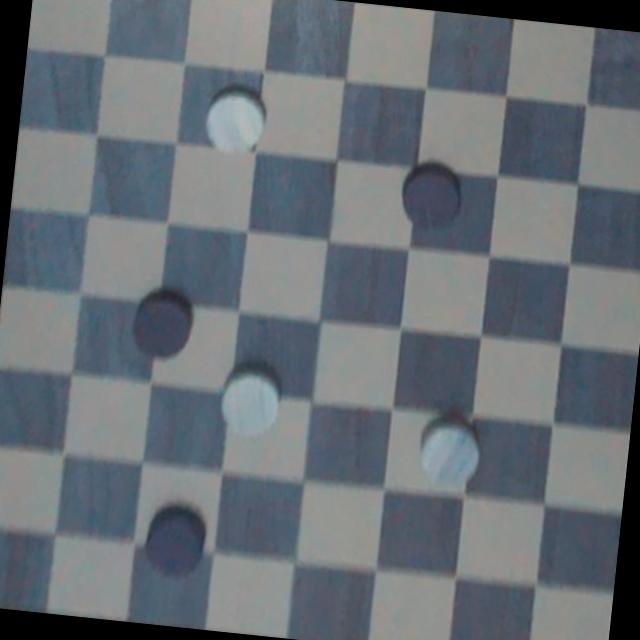BOARD: (0, 0, 640, 640)
black: (132, 492, 220, 587), (394, 153, 472, 235), (125, 284, 201, 364)
white: (210, 358, 298, 454), (414, 405, 489, 509), (194, 82, 270, 166)
